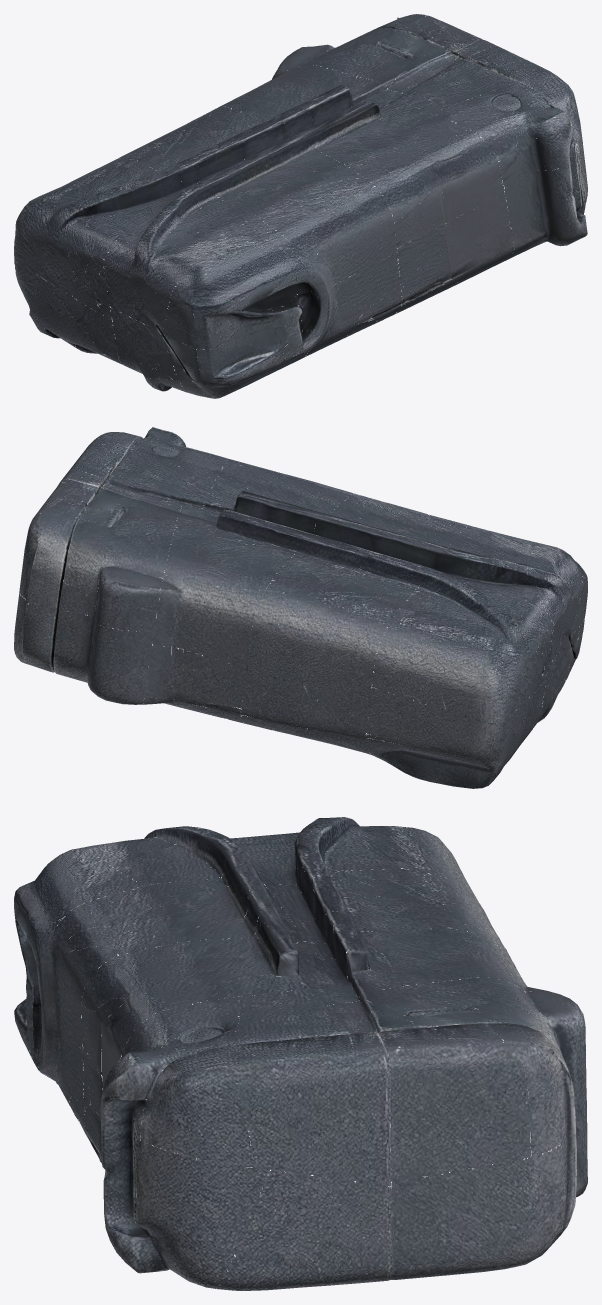
The model's file is accu-standard.glb.
3 renders of one model, top to bottom at view 1: azimuth 30°, elevation 25°; view 2: azimuth 150°, elevation 25°; view 3: azimuth 270°, elevation 25°, orthographic. The views are drawn at different scales.
Parts seen in each view (by area): view 1: tripo_node_42914121-28c4-4804-b82b-589cac97c6b8; view 2: tripo_node_42914121-28c4-4804-b82b-589cac97c6b8; view 3: tripo_node_42914121-28c4-4804-b82b-589cac97c6b8.
Part boxes in pixels (x1,y1,x2,y2): tripo_node_42914121-28c4-4804-b82b-589cac97c6b8: (14, 14, 587, 398); tripo_node_42914121-28c4-4804-b82b-589cac97c6b8: (14, 427, 587, 788); tripo_node_42914121-28c4-4804-b82b-589cac97c6b8: (14, 817, 587, 1290).
Size of the model in its own units: 0.9793 by 0.3903 by 0.6658.
1 material, 1 textured.
